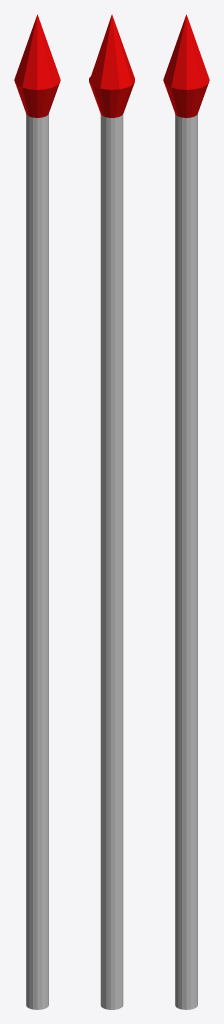
File: Lanza.glb
3 renders of one model, left to right at view 1: azimuth 90°, elevation 25°; view 2: azimuth 150°, elevation 25°; view 3: azimuth 270°, elevation 25°, orthographic.
Visible parts, largest first — view 1: Lanza; view 2: Lanza; view 3: Lanza.
Part boxes in pixels (<box>): Lanza: <box>14,14,60,1009</box>; Lanza: <box>89,14,134,1009</box>; Lanza: <box>163,14,209,1009</box>.
Bounding box in the file's own units: 0.128 × 3 × 0.128.
